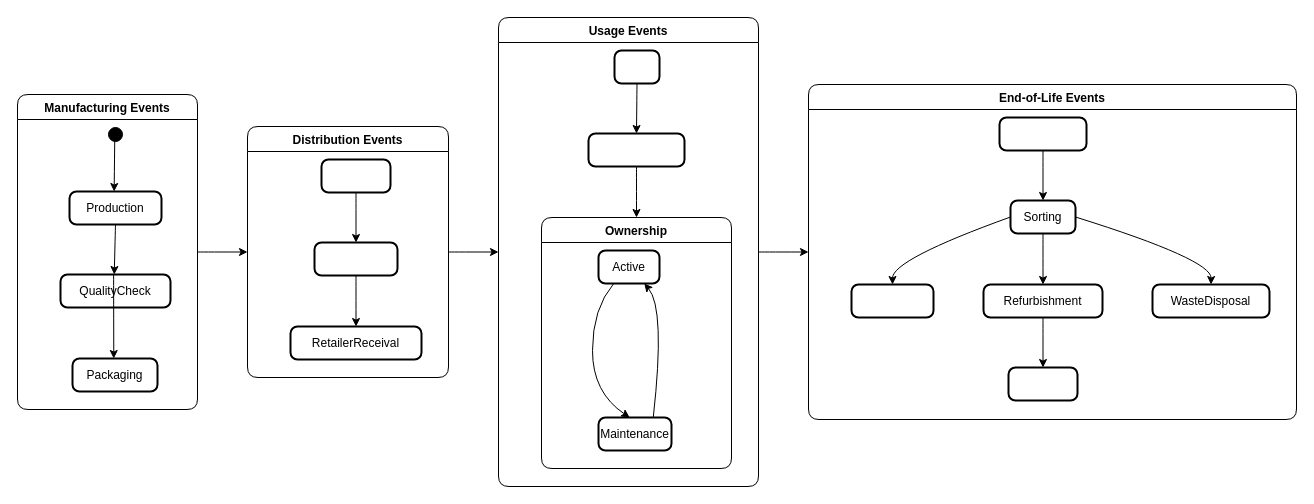
This 1314x504 diagram has some shape labels left out. The centre of each missing label's shape, as x and y in pixels:
Collection: the point at 1042,133
Installation: the point at 636,149
Recycling: the point at 892,300
Resale: the point at 1042,383
Sale: the point at 636,66
Storage: the point at 355,175
Transport: the point at 355,258
